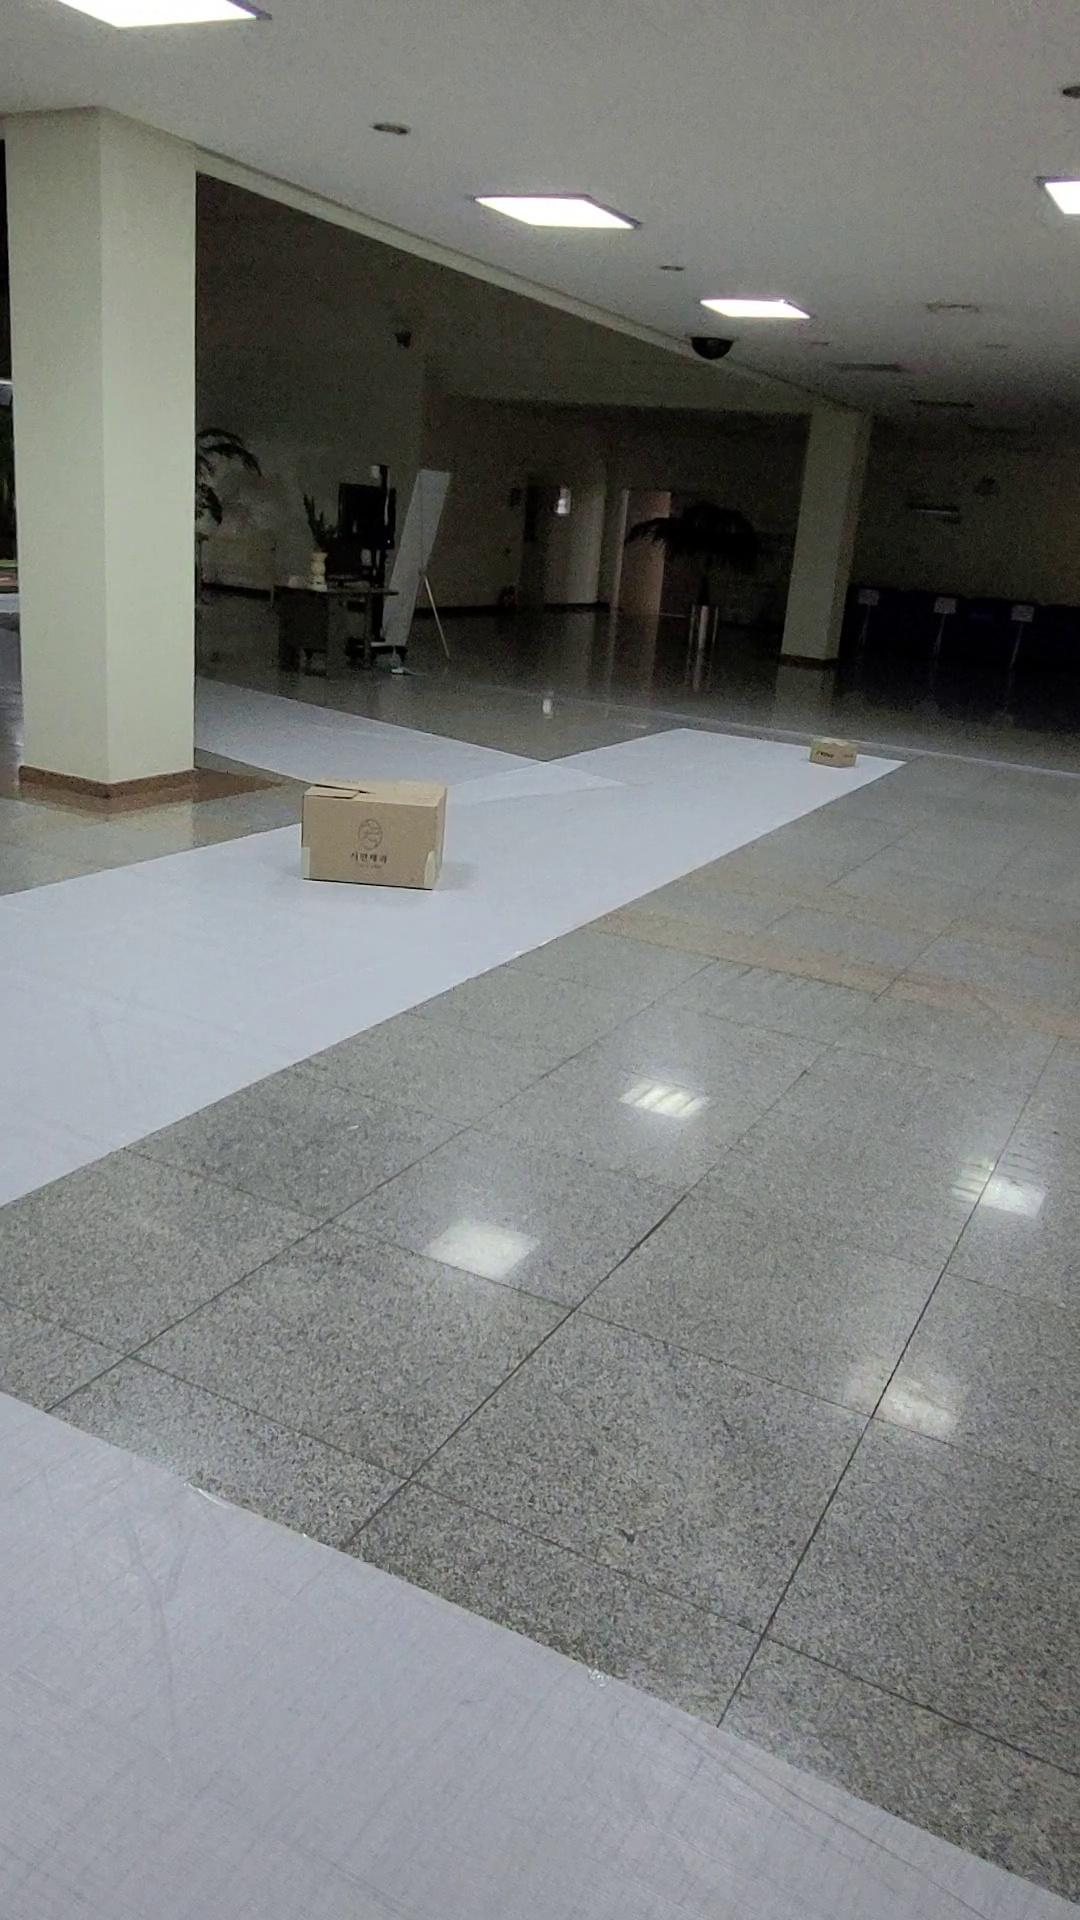Box: (278, 745, 495, 945), (767, 717, 889, 810)
